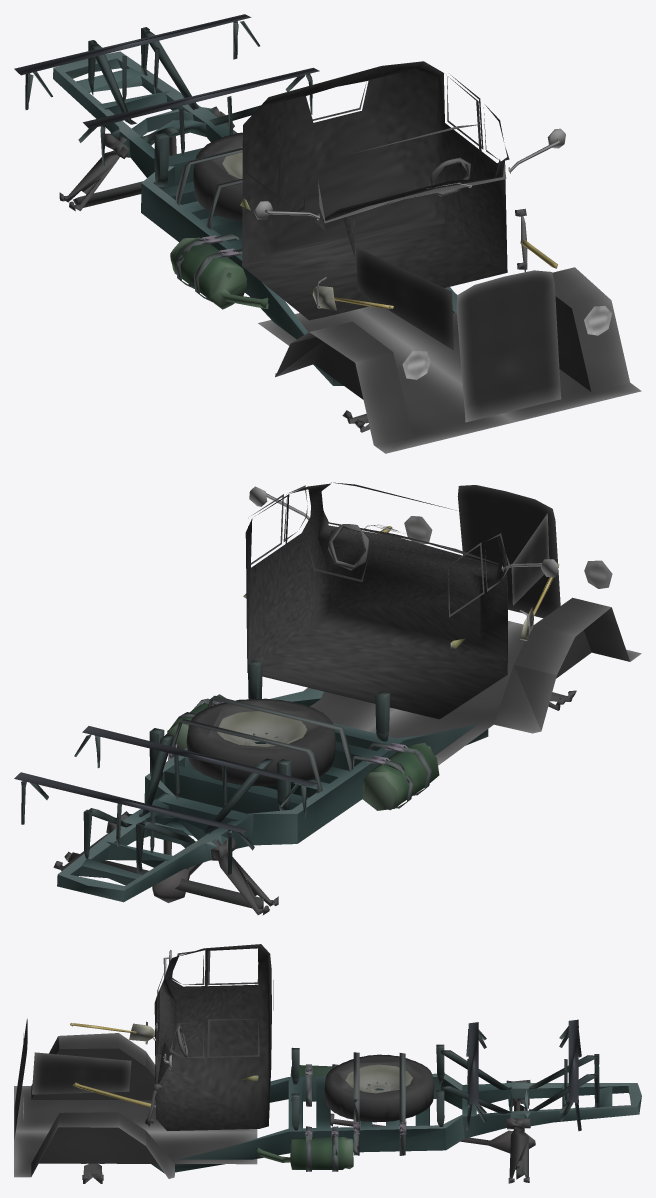
The model's file is OT_interior_d1.obj.
The picture shows the model from 3 angles, top to bottom: view 1: azimuth 30°, elevation 25°; view 2: azimuth 150°, elevation 25°; view 3: azimuth 270°, elevation 25°; orthographic projection. The views are drawn at different scales.
Visible parts, largest first — view 1: OT_interior; view 2: OT_interior; view 3: OT_interior.
Part boxes in pixels (x1,y1,x2,y2): OT_interior: [14, 14, 641, 453]; OT_interior: [14, 482, 641, 915]; OT_interior: [14, 944, 641, 1183].
Bounding box in the file's own units: 2.36 × 1.87 × 5.64.
1 material, 1 textured.
